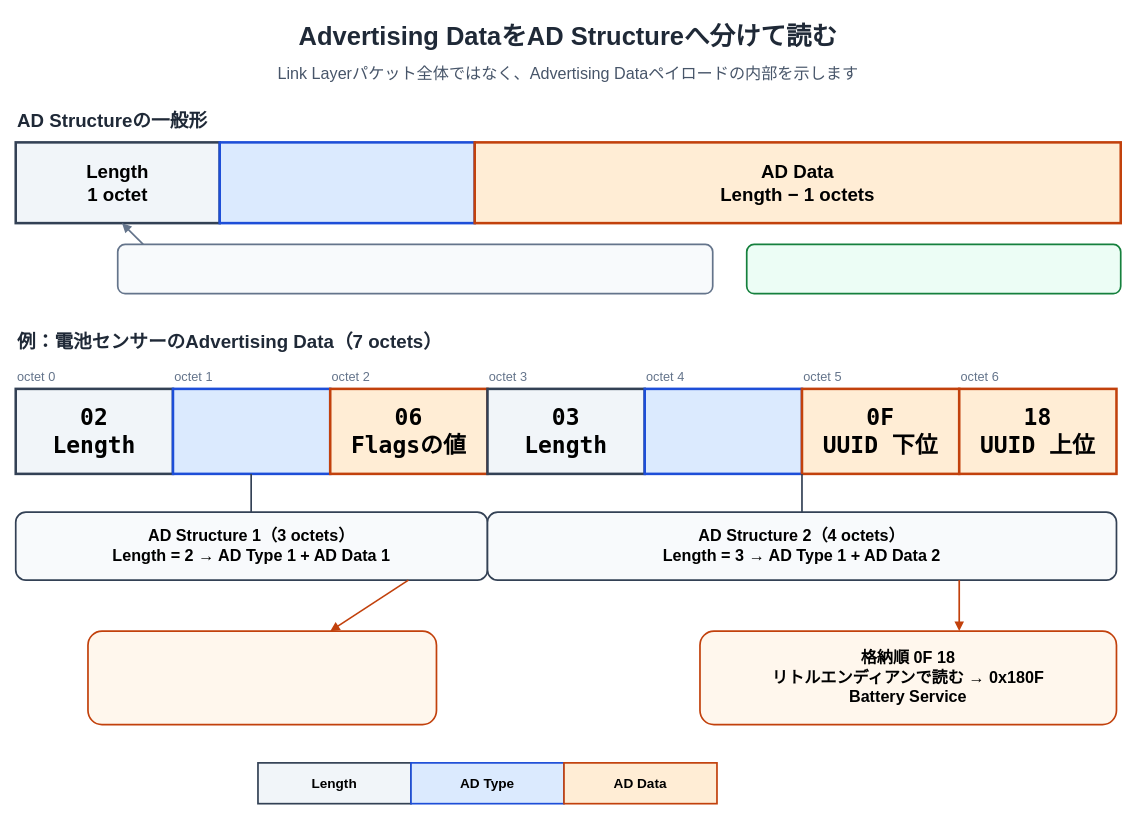
The diagram is 1136 pixels wide and 819 high, and some of its shapes have lost their labels. The box of each missing label's shape, as (x1, y1, x2, y2) in pixels:
01 Flags: (171, 387, 331, 475)
03 16-bit UUID一覧: (643, 387, 803, 475)
0x06 LE General Discoverable Mode + BR/EDR Not Supported: (87, 630, 437, 725)
AD Type 1 octet: (218, 141, 476, 224)
Length自身は数えません。右に続くAD TypeとAD Dataの合計です。: (116, 243, 713, 294)
この単位が必要な数だけ並びます: (745, 243, 1121, 294)
